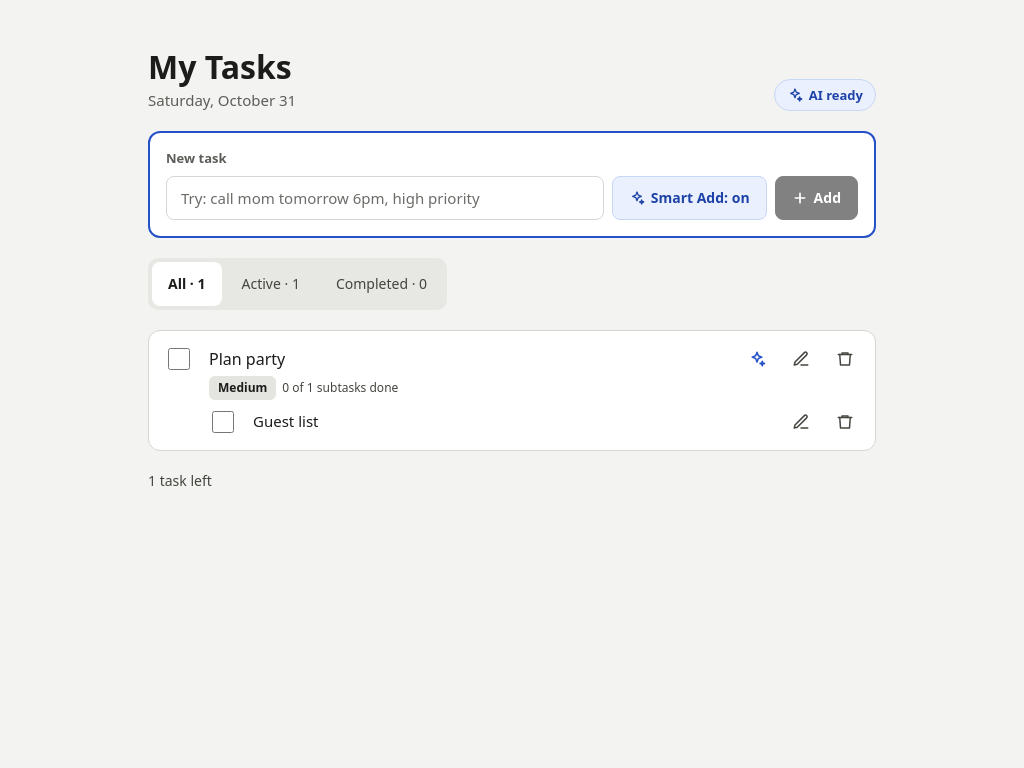
Test: Break it down › mentions the subtasks the task already has
What coordinates should you click on to do the following:
click the button named "Break down \"Plan party\" with AI"
I would click on:
 (757, 359)
Its box is [735, 337, 779, 381].
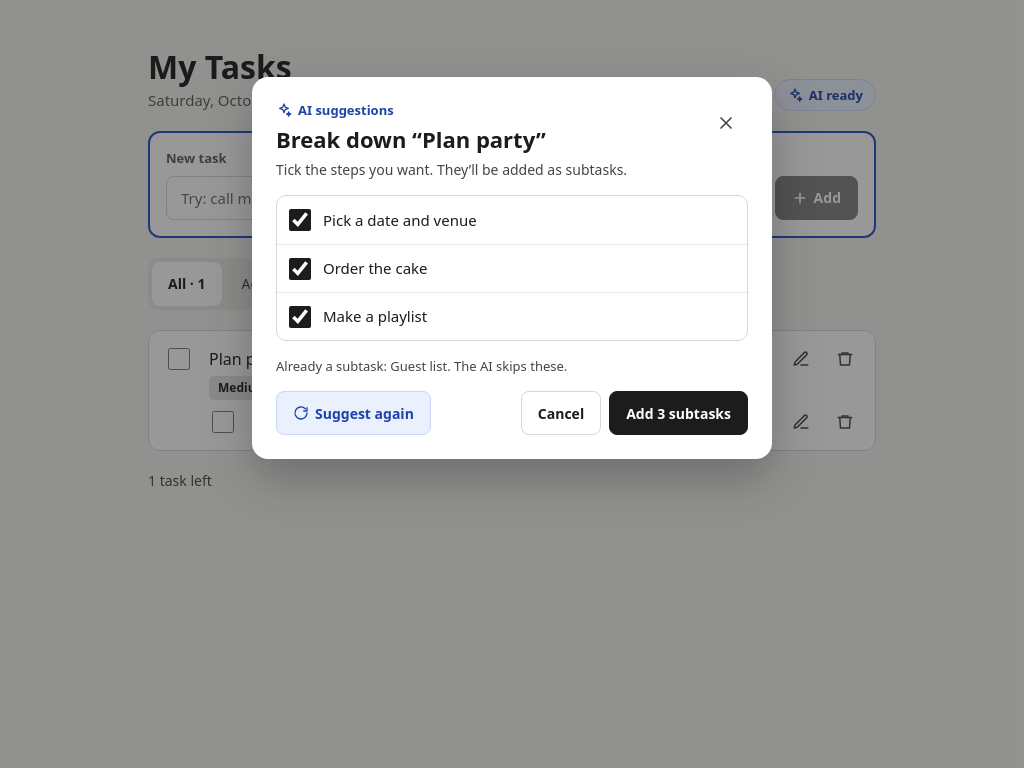
expect the text "Already a subtask: Guest list. The AI skips these." is shown: met, box [276, 357, 567, 375]
